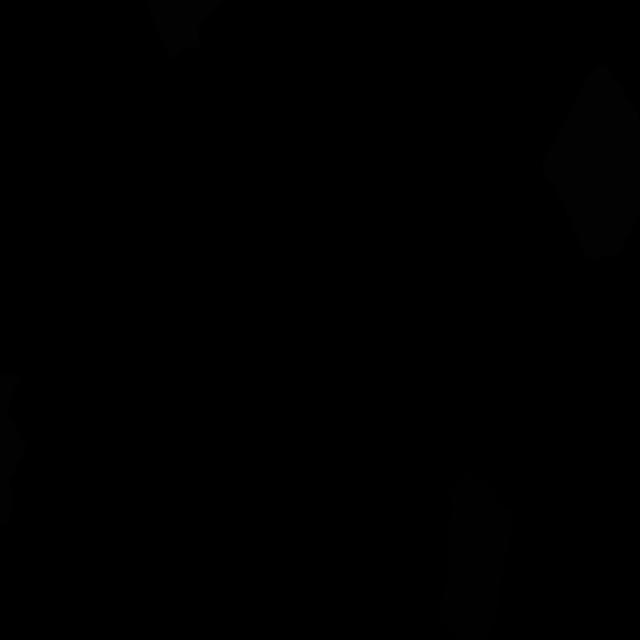cardboard: (542, 64, 640, 259), (145, 0, 222, 61), (0, 373, 26, 525)
rigid_plastic: (441, 472, 512, 640)
